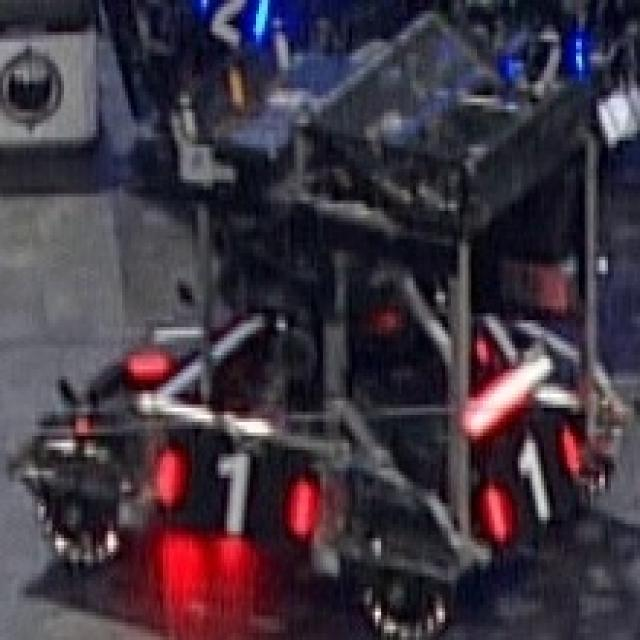B2: (506, 10, 585, 81)
R1: (148, 433, 323, 538), (483, 432, 576, 534), (125, 302, 207, 383)
